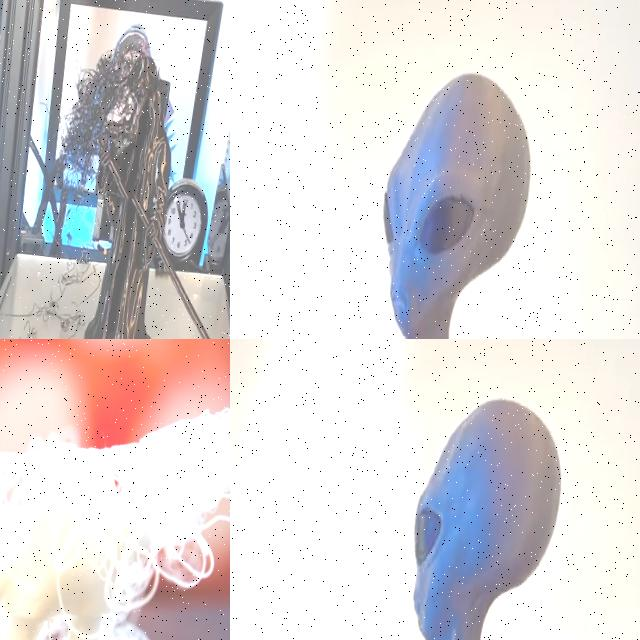spaghetti: (105, 390, 230, 610), (57, 27, 157, 194)
